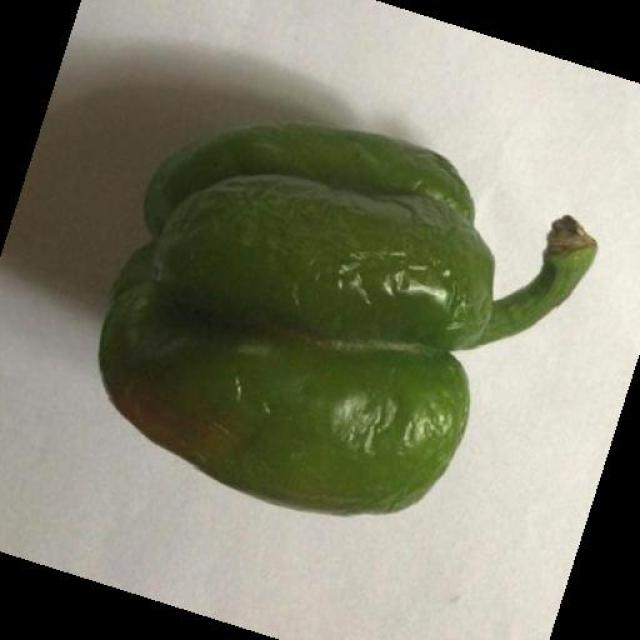Stale_Capsicum: (101, 82, 574, 534)
